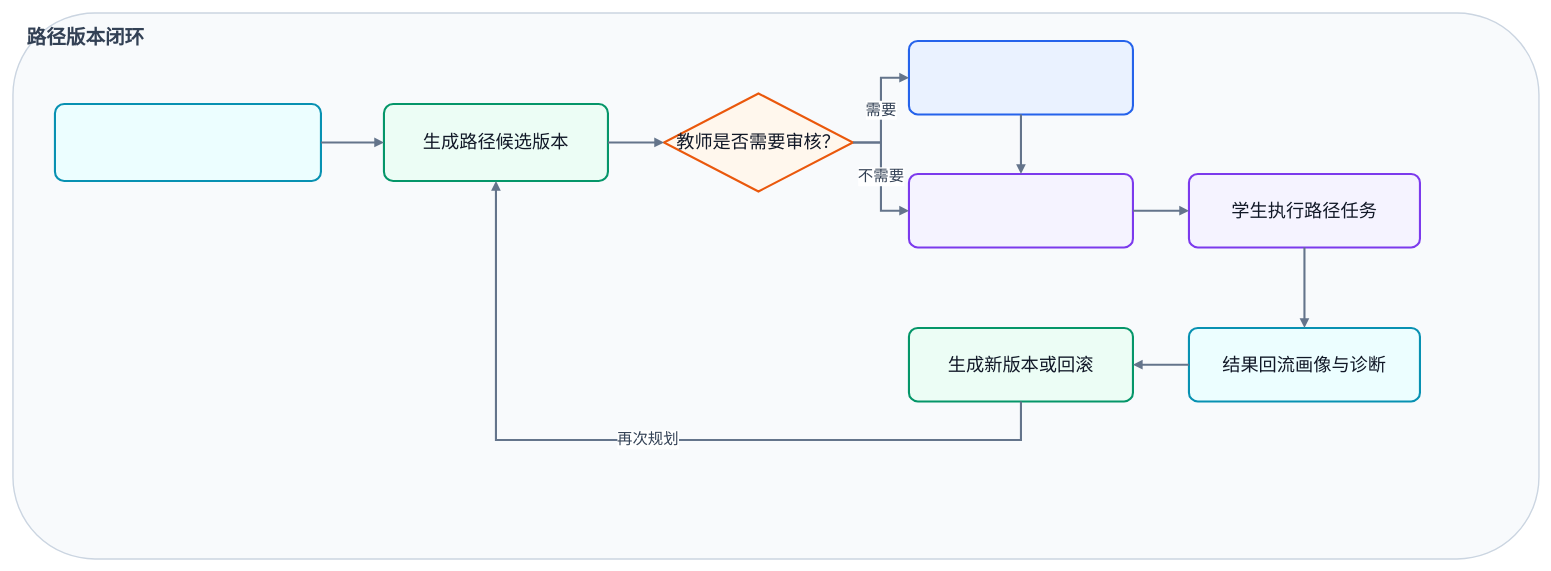
Image size: 1551x571. Some labels were removed from this diagram. The centre of each missing label's shape, as x and y in pixels:
教师调整或确认: the point at 1021,77
生效路径版本: the point at 1021,210
触发路径规划 新课/诊断/目标/节点完成: the point at 188,142
